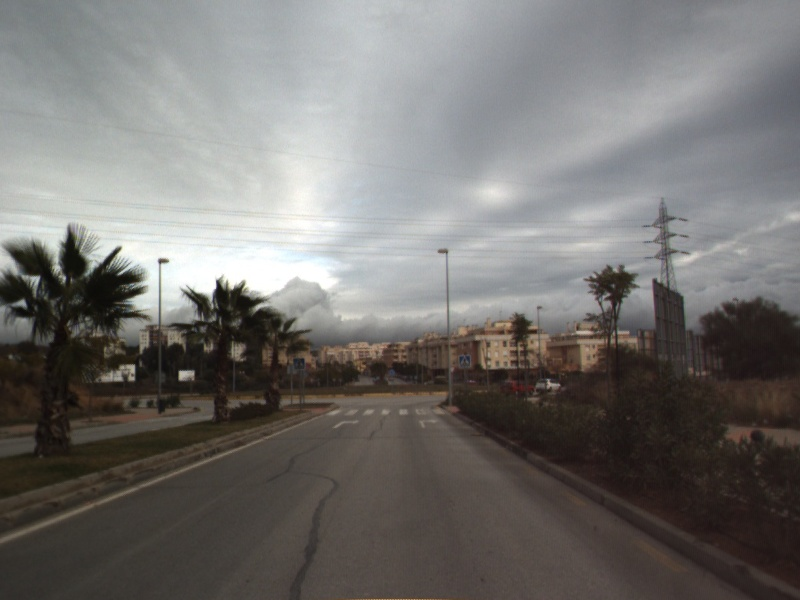RIGHT: (330, 417, 361, 430), (417, 416, 440, 430)
